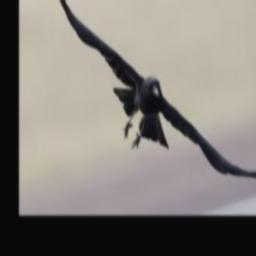Crow: (50, 0, 256, 180)
